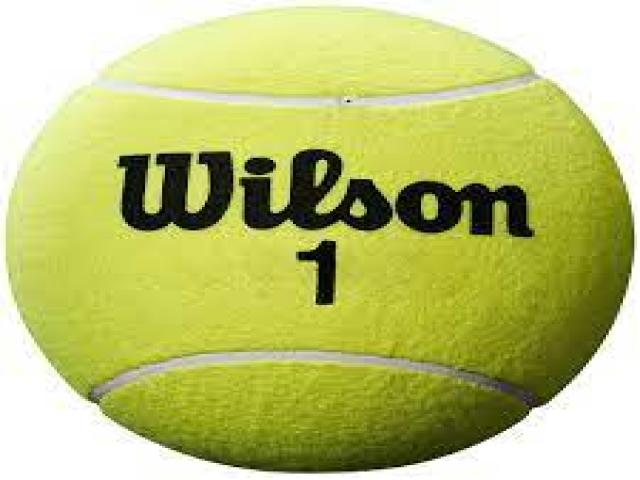tennis-ball: (0, 2, 634, 471)
